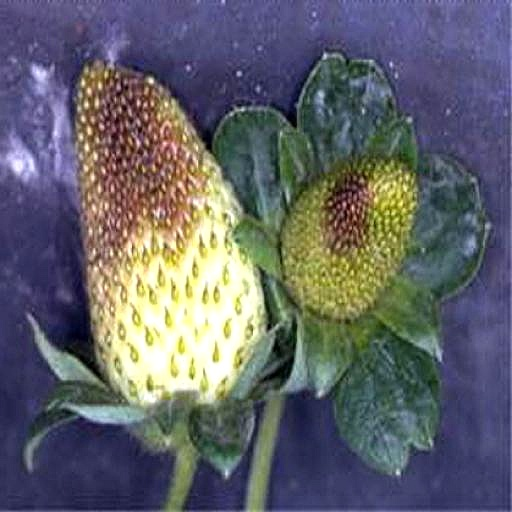Anthracnose Fruit Rot: (304, 188, 438, 448), (129, 246, 190, 349)
